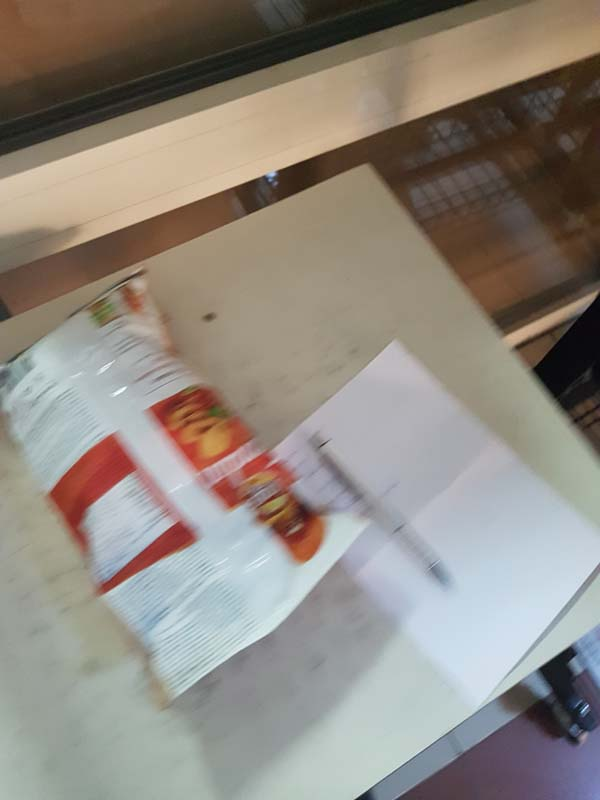laysfirindan: (11, 266, 368, 709)
